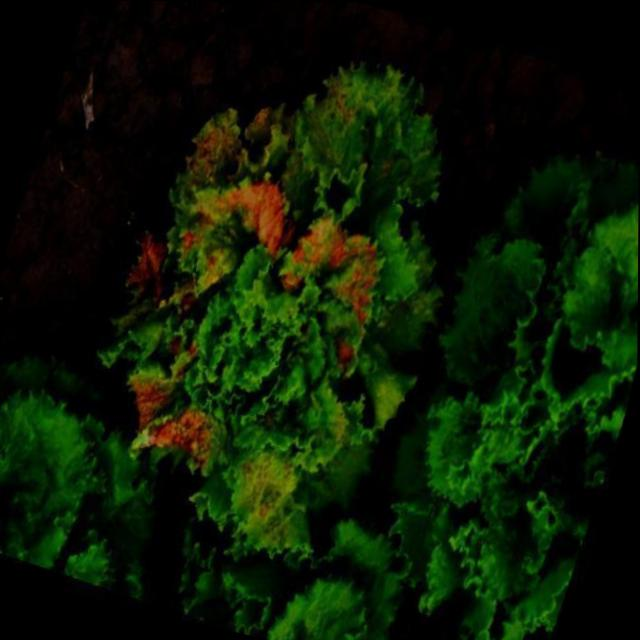Bad: (119, 72, 438, 553), (179, 181, 284, 291), (283, 216, 376, 325)
